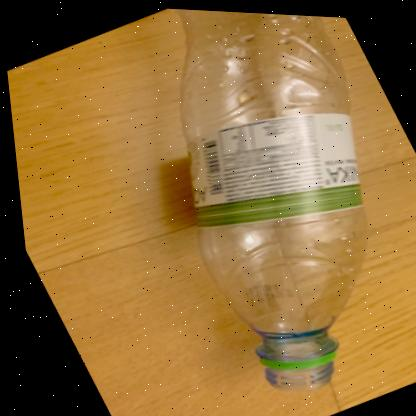Plastic: (176, 7, 363, 387)
